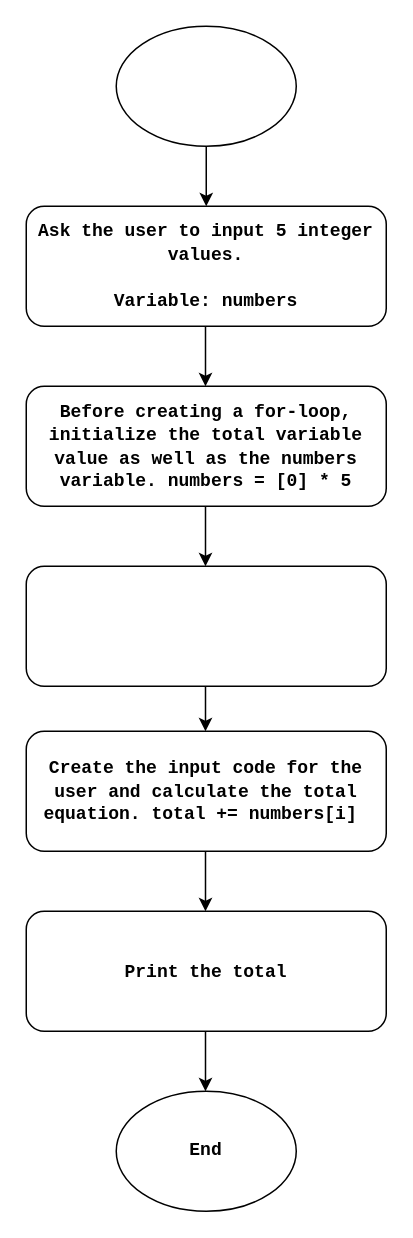
The diagram is 413 pixels wide and 1238 high, and some of its shapes have lost their labels. Each missing label, with the box of its shape:
Start: (115, 25, 296, 146)
Start off the for-loop using the range and len functions for the list, numbers: (25, 565, 386, 686)
